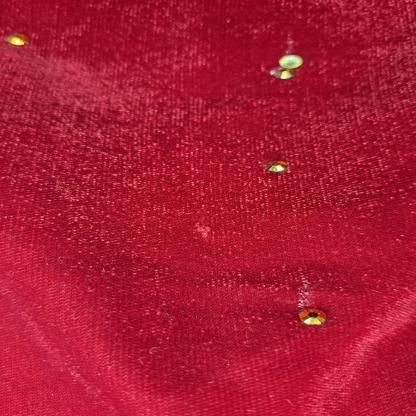spot: (291, 274, 321, 308), (195, 223, 219, 240)
